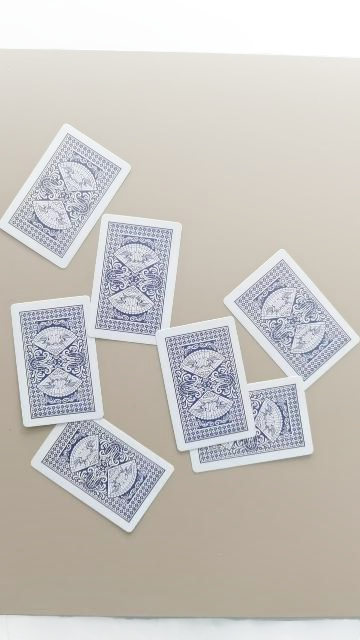card: (0, 124, 131, 269), (224, 249, 359, 389), (31, 419, 174, 532), (156, 316, 255, 451), (10, 295, 104, 426), (89, 214, 181, 344), (190, 376, 314, 472)
